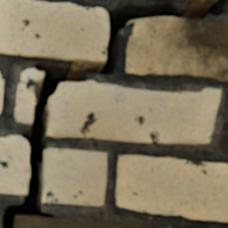brick: (115, 155, 227, 222), (0, 0, 108, 62), (125, 17, 227, 82), (14, 215, 162, 227), (0, 75, 3, 114), (174, 0, 215, 2), (224, 121, 227, 148)
broken_brick: (47, 81, 220, 144), (42, 149, 106, 206), (0, 136, 30, 194), (14, 69, 43, 124)
crack: (1, 0, 227, 227)
